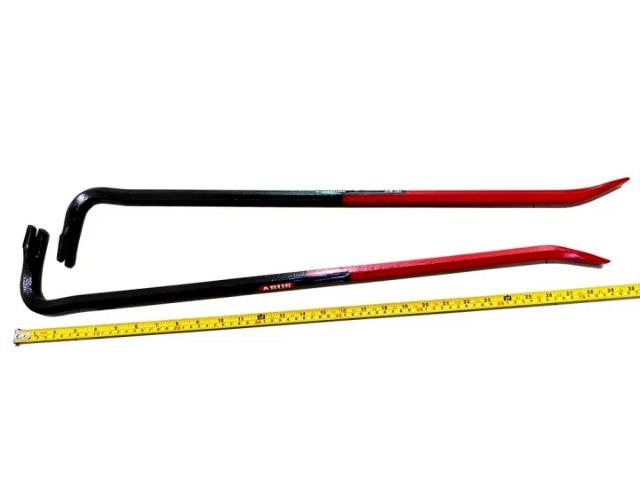crow bar: (18, 224, 616, 320), (53, 174, 633, 269)
